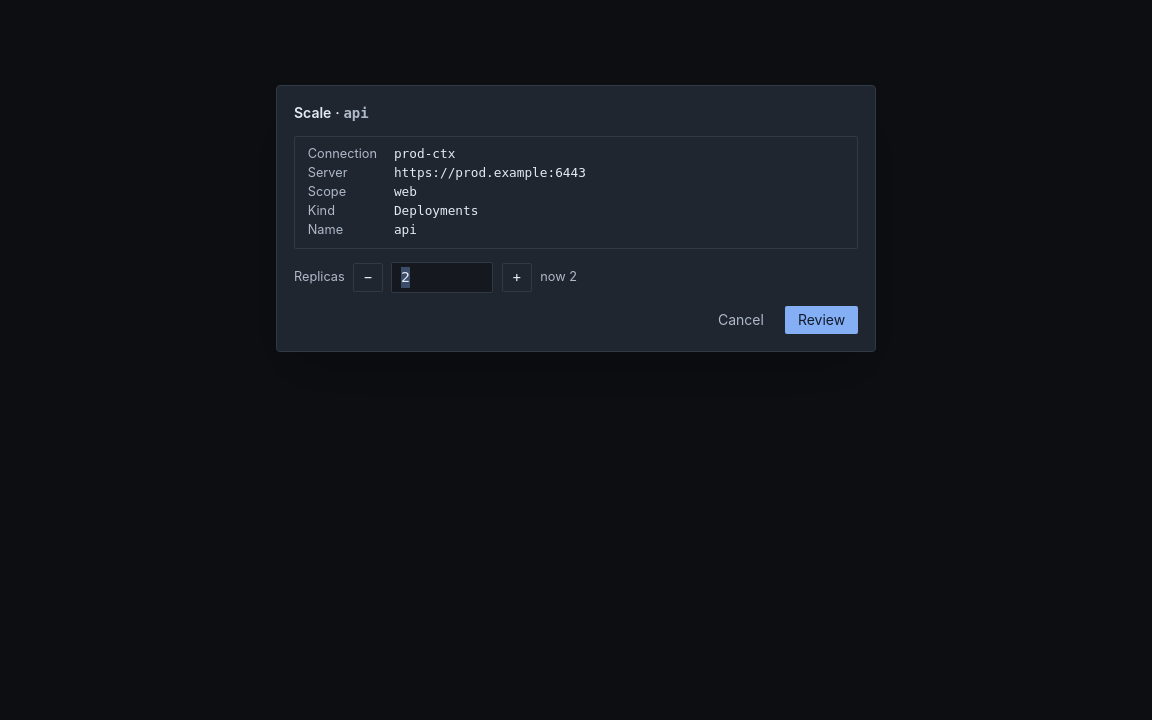
Test case: ActionDialog › scale: an out-of-range count is explained, not sent
Replace the text in the field with "11": (442, 277) [392,262,494,293]
Then press Enter
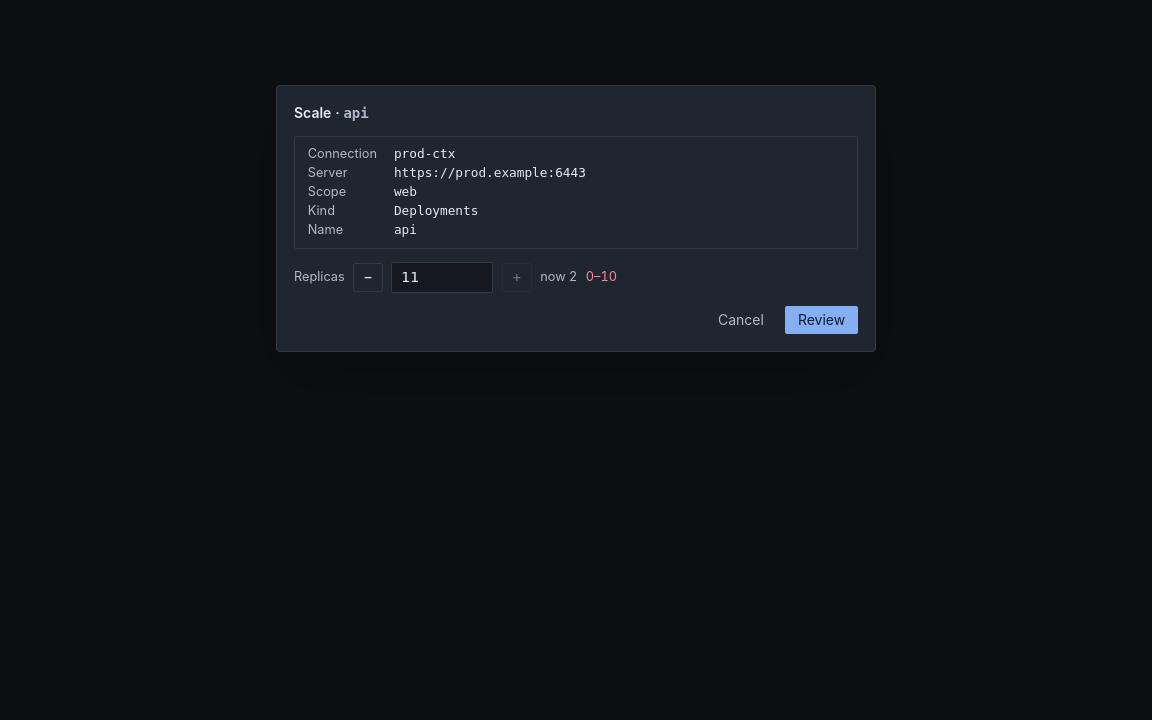
Expected: the dialog shows "0–10", [586,269,617,284]
